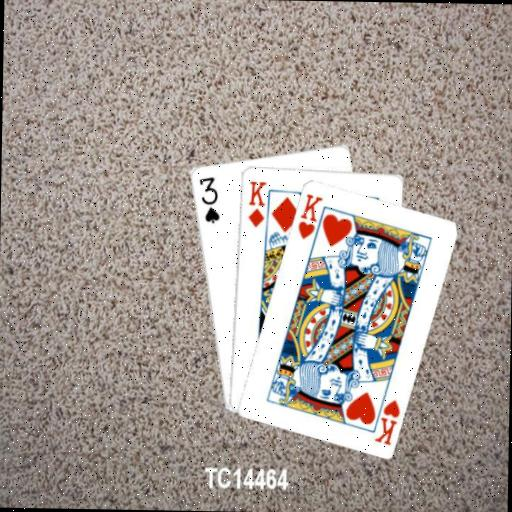3S: (195, 174, 221, 225)
KD: (245, 177, 268, 229)
KH: (371, 396, 402, 447), (294, 190, 324, 241)
